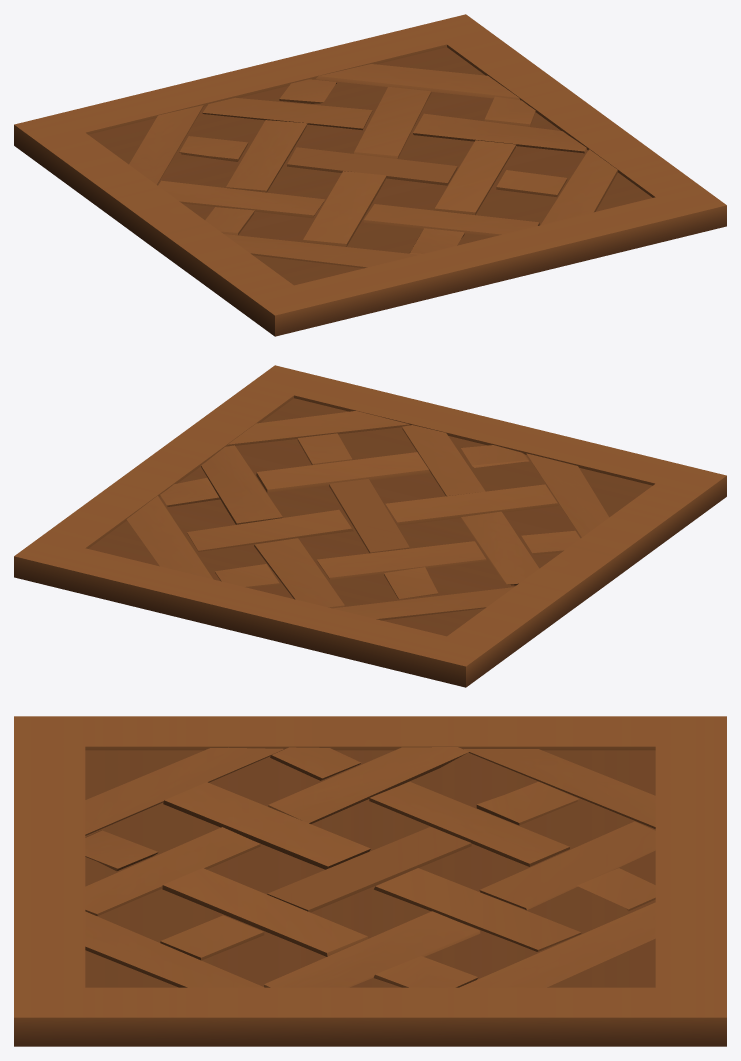
File: PArkettilattia.fbx
3 renders of one model, top to bottom at view 1: azimuth 30°, elevation 25°; view 2: azimuth 150°, elevation 25°; view 3: azimuth 270°, elevation 25°, orthographic. The views are drawn at different scales.
Parts seen in each view (by area): view 1: pPlane20; view 2: pPlane20; view 3: pPlane20.
Boxes of the visible parts, left/top/right/bottom form: pPlane20: left=14, top=14, right=726, bottom=336; pPlane20: left=14, top=365, right=726, bottom=687; pPlane20: left=14, top=716, right=726, bottom=1046.
Bounding box in the file's own units: 1 × 0.0482 × 1.
2 materials, 2 textured.
